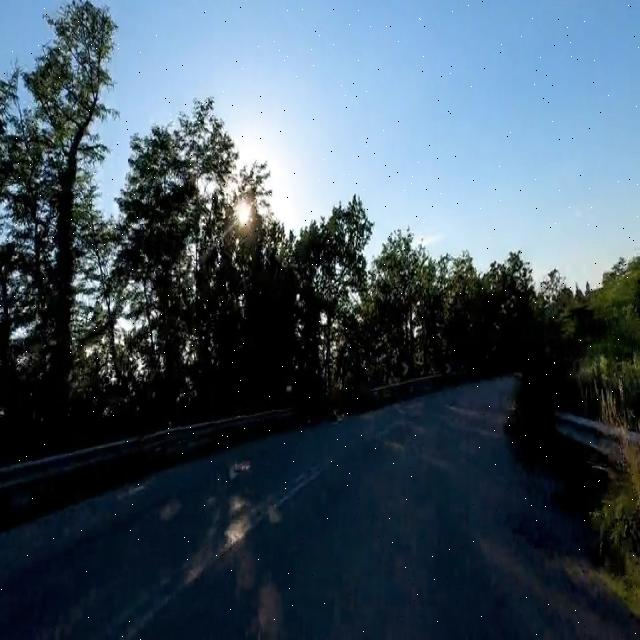lane: (0, 377, 639, 638), (118, 437, 331, 636)
road: (0, 377, 639, 638)
